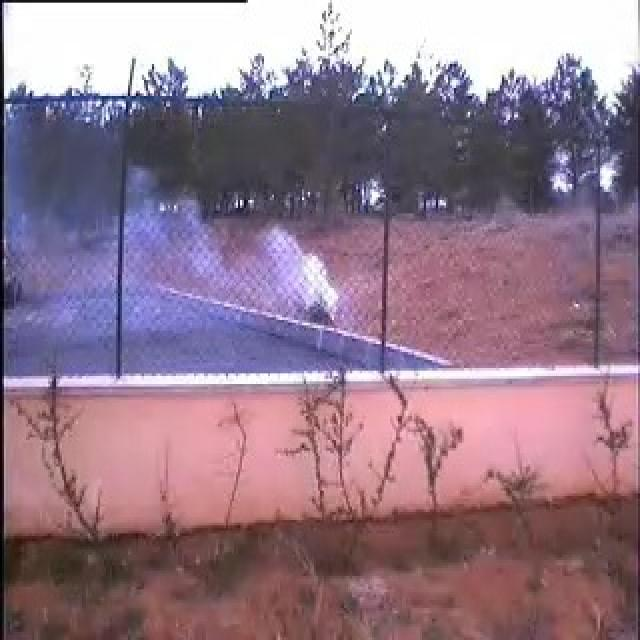smoke: (58, 177, 352, 369)
